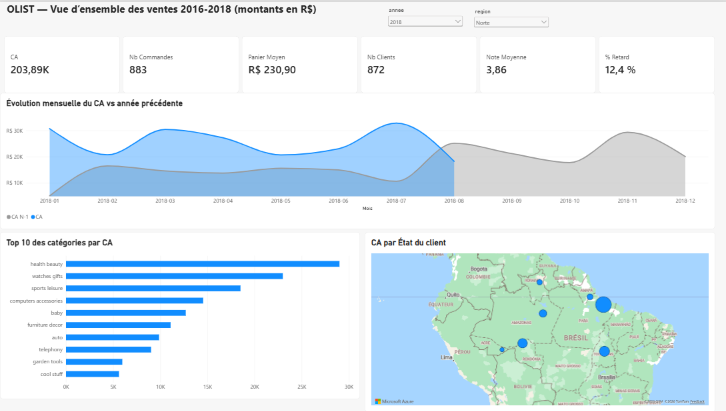

The dashboard page shown, as its layout file describes it:
{"tool":"powerbi","page":{"name":"Vue d'ensemble","canvas":[1920,1080],"ordinal":0},"visuals":[{"type":"textbox","box":[10.9,0,1107.3,40],"z":0},{"type":"slicer","fields":{"Values":["dim_date.annee"]},"box":[1015.8,13.2,207.3,50.9],"z":1000},{"type":"slicer","fields":{"Values":["dim_client.region"]},"box":[1242.1,15.8,207.3,50.9],"z":2000},{"type":"cardVisual","fields":{"Data":["_Mesures.CA","_Mesures.Nb Commandes","_Mesures.Panier Moyen","_Mesures.Nb Clients","_Mesures.Note Moyenne","_Mesures.% Retard"]},"box":[10.5,89.5,1871.1,150],"z":3000},{"type":"lineChart","title":"Évolution mensuelle du CA vs année précédente","fields":{"Category":["dim_date.annee_mois"],"Y":["_Mesures.CA N-1","_Mesures.CA"]},"box":[0,239.5,1881.6,357.9],"z":4000},{"type":"clusteredBarChart","title":"Top 10 des catégories par CA","fields":{"Category":["dim_produit.categorie"],"Y":["_Mesures.CA"]},"box":[0,605.3,947.4,439.5],"z":5000},{"type":"azureMap","title":"CA par État du client","fields":{"Category":["dim_client.etat_nom"],"Size":["_Mesures.CA"]},"box":[960.5,605.3,921.1,473.7],"z":6000}]}

Visuals, with their boxes in screenshot pixels (x1, y1, x2, y2), scaled from the page's 1920x1080 canvas onto the 726x411 screenshot:
textbox: [left=4, top=0, right=423, bottom=15]
slicer - dim_date.annee: [left=384, top=5, right=462, bottom=24]
slicer - dim_client.region: [left=470, top=6, right=548, bottom=25]
cardVisual - _Mesures.CA x _Mesures.Nb Commandes: [left=4, top=34, right=711, bottom=91]
"Évolution mensuelle du CA vs année précédente" lineChart: [left=0, top=91, right=711, bottom=227]
"Top 10 des catégories par CA" clusteredBarChart: [left=0, top=230, right=358, bottom=398]
"CA par État du client" azureMap: [left=363, top=230, right=711, bottom=410]
